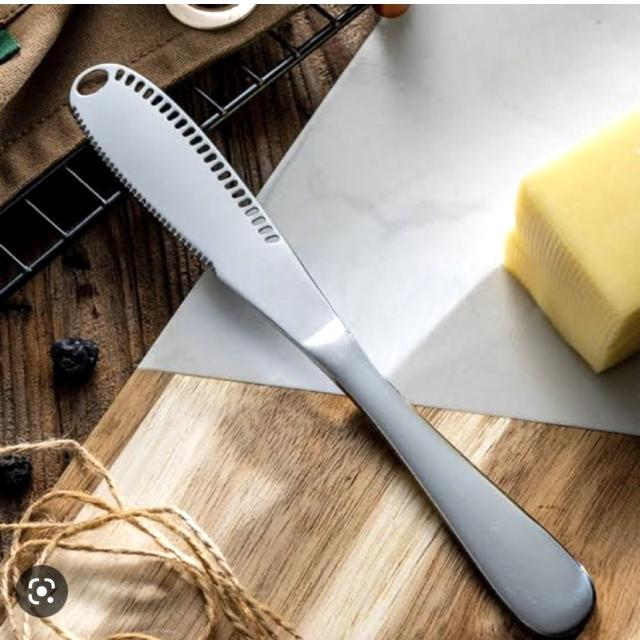knife: (65, 45, 601, 638)
